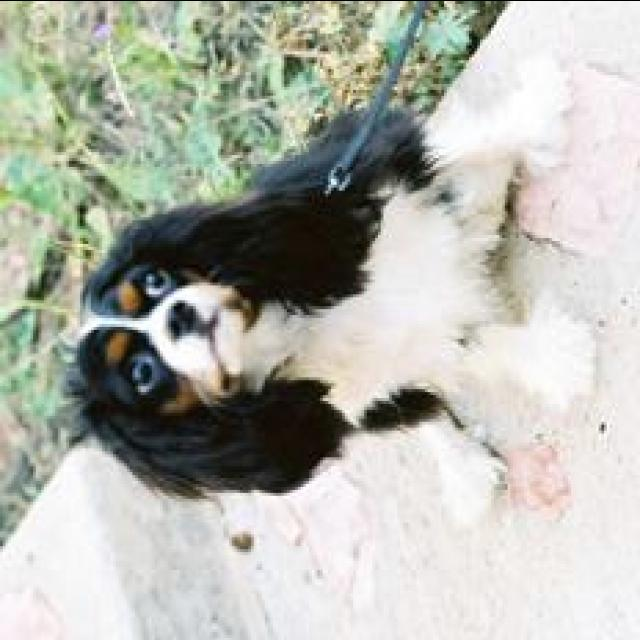husky: (71, 95, 598, 521)
